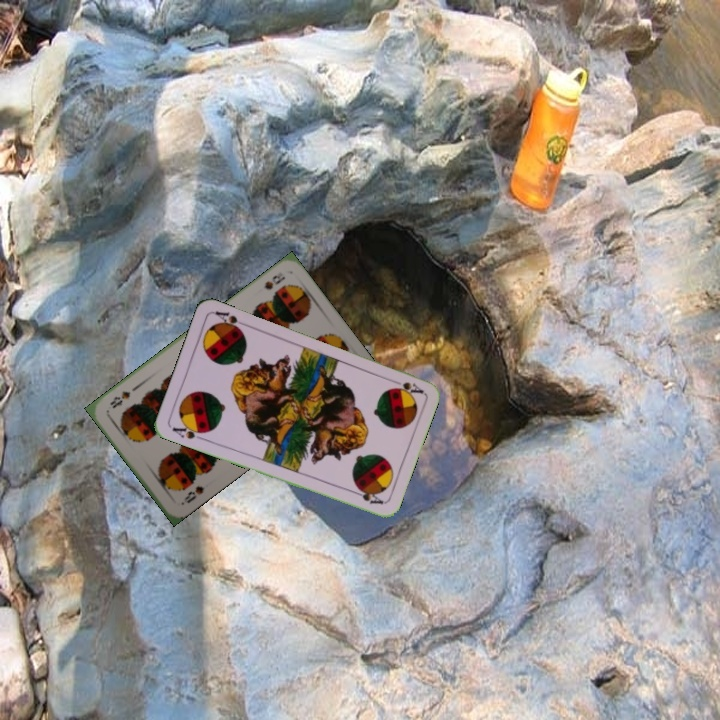S8: (177, 481, 206, 508), (260, 271, 288, 292)
SA: (168, 420, 209, 443), (391, 378, 426, 396)
